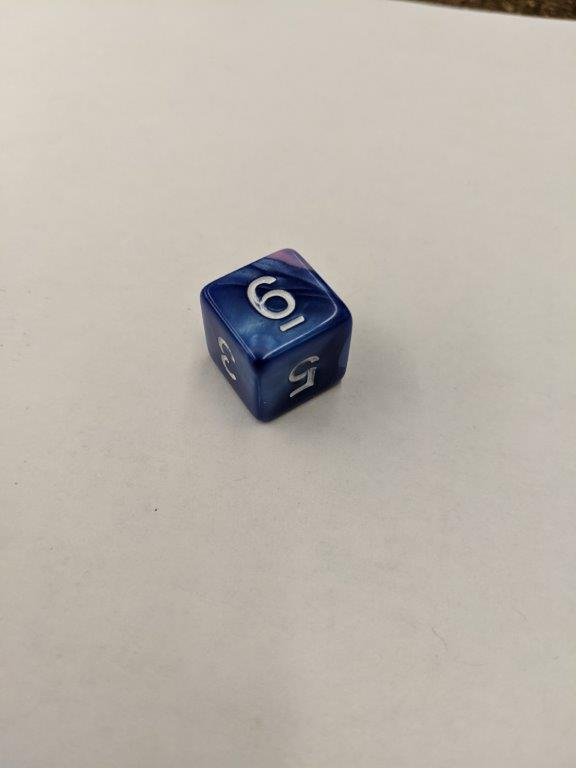d6-6: (200, 245, 353, 423)
